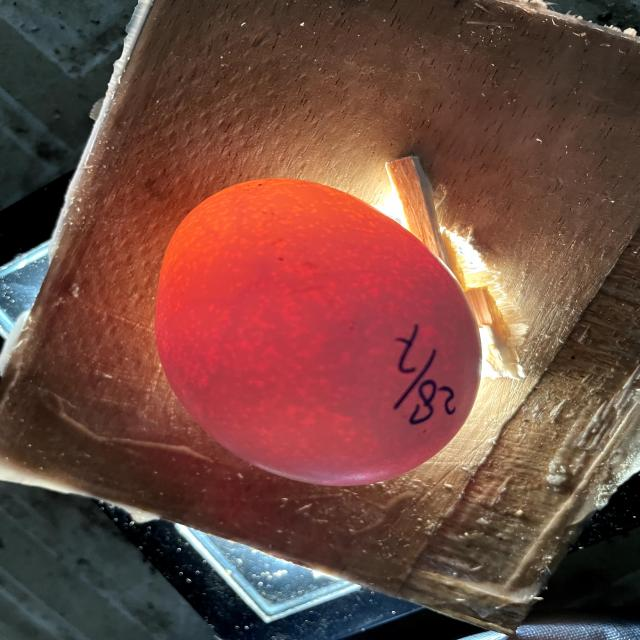fertile: (155, 179, 482, 486)
